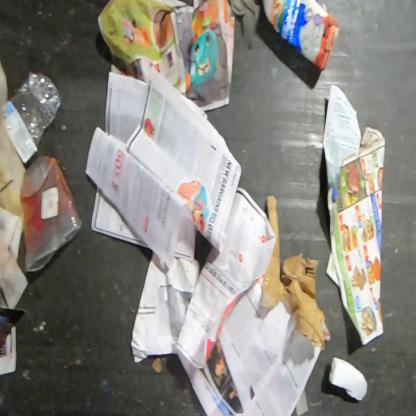cardboard: (260, 194, 327, 352), (261, 0, 341, 73), (328, 355, 368, 404)
rigid_plastic: (21, 154, 84, 273), (1, 67, 63, 165)
soft_plastic: (228, 0, 264, 47)
